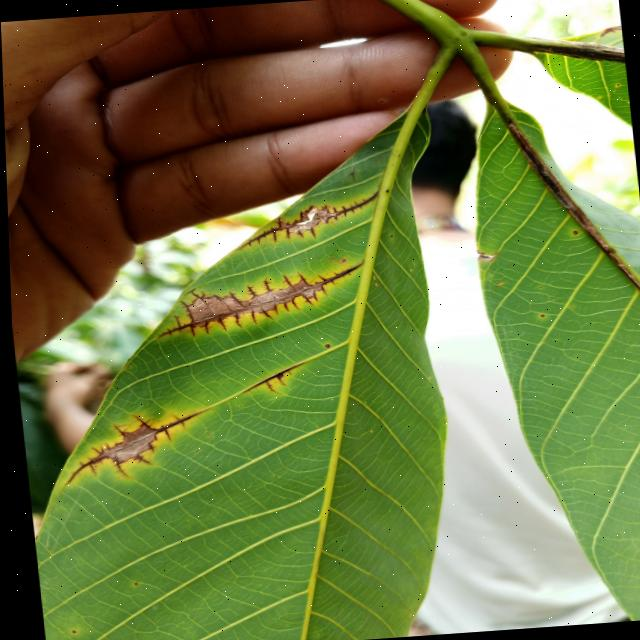Colletotrichum: (322, 343, 327, 348), (571, 230, 575, 234), (537, 314, 541, 316), (67, 630, 71, 632), (130, 582, 132, 584)
Corynespora: (148, 264, 366, 339), (54, 411, 202, 484), (230, 191, 381, 249), (236, 361, 304, 396)
